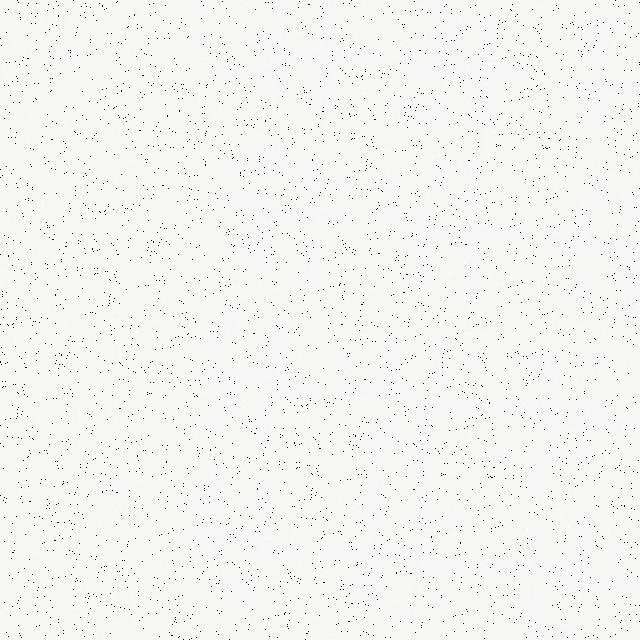drone: (198, 313, 640, 640), (198, 0, 640, 313)
